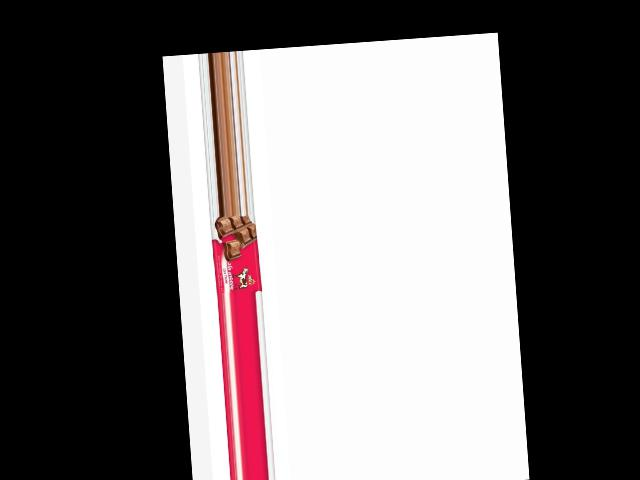chocolate: (209, 214, 260, 295)
